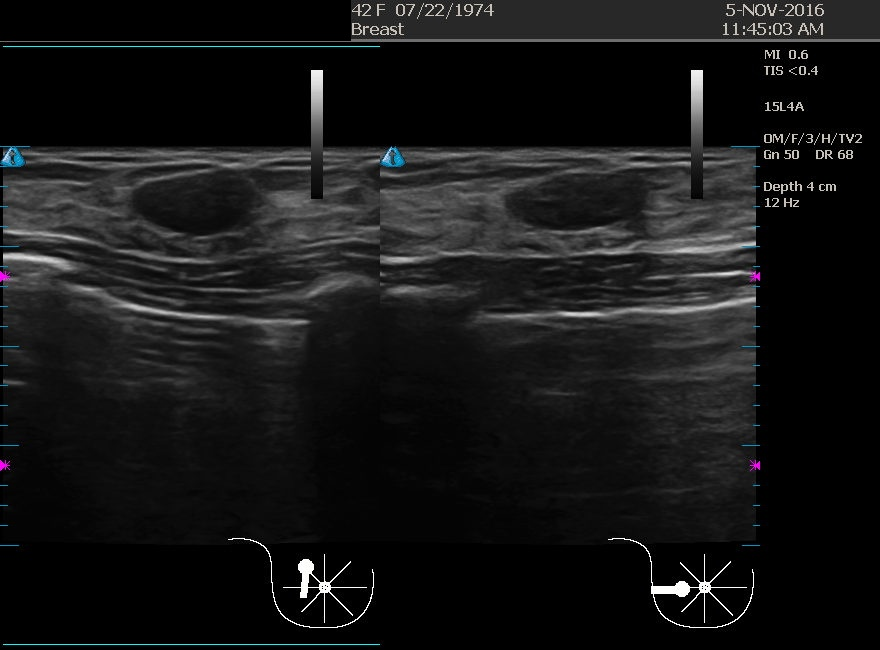Benign: (91, 149, 291, 349), (477, 152, 677, 352)
